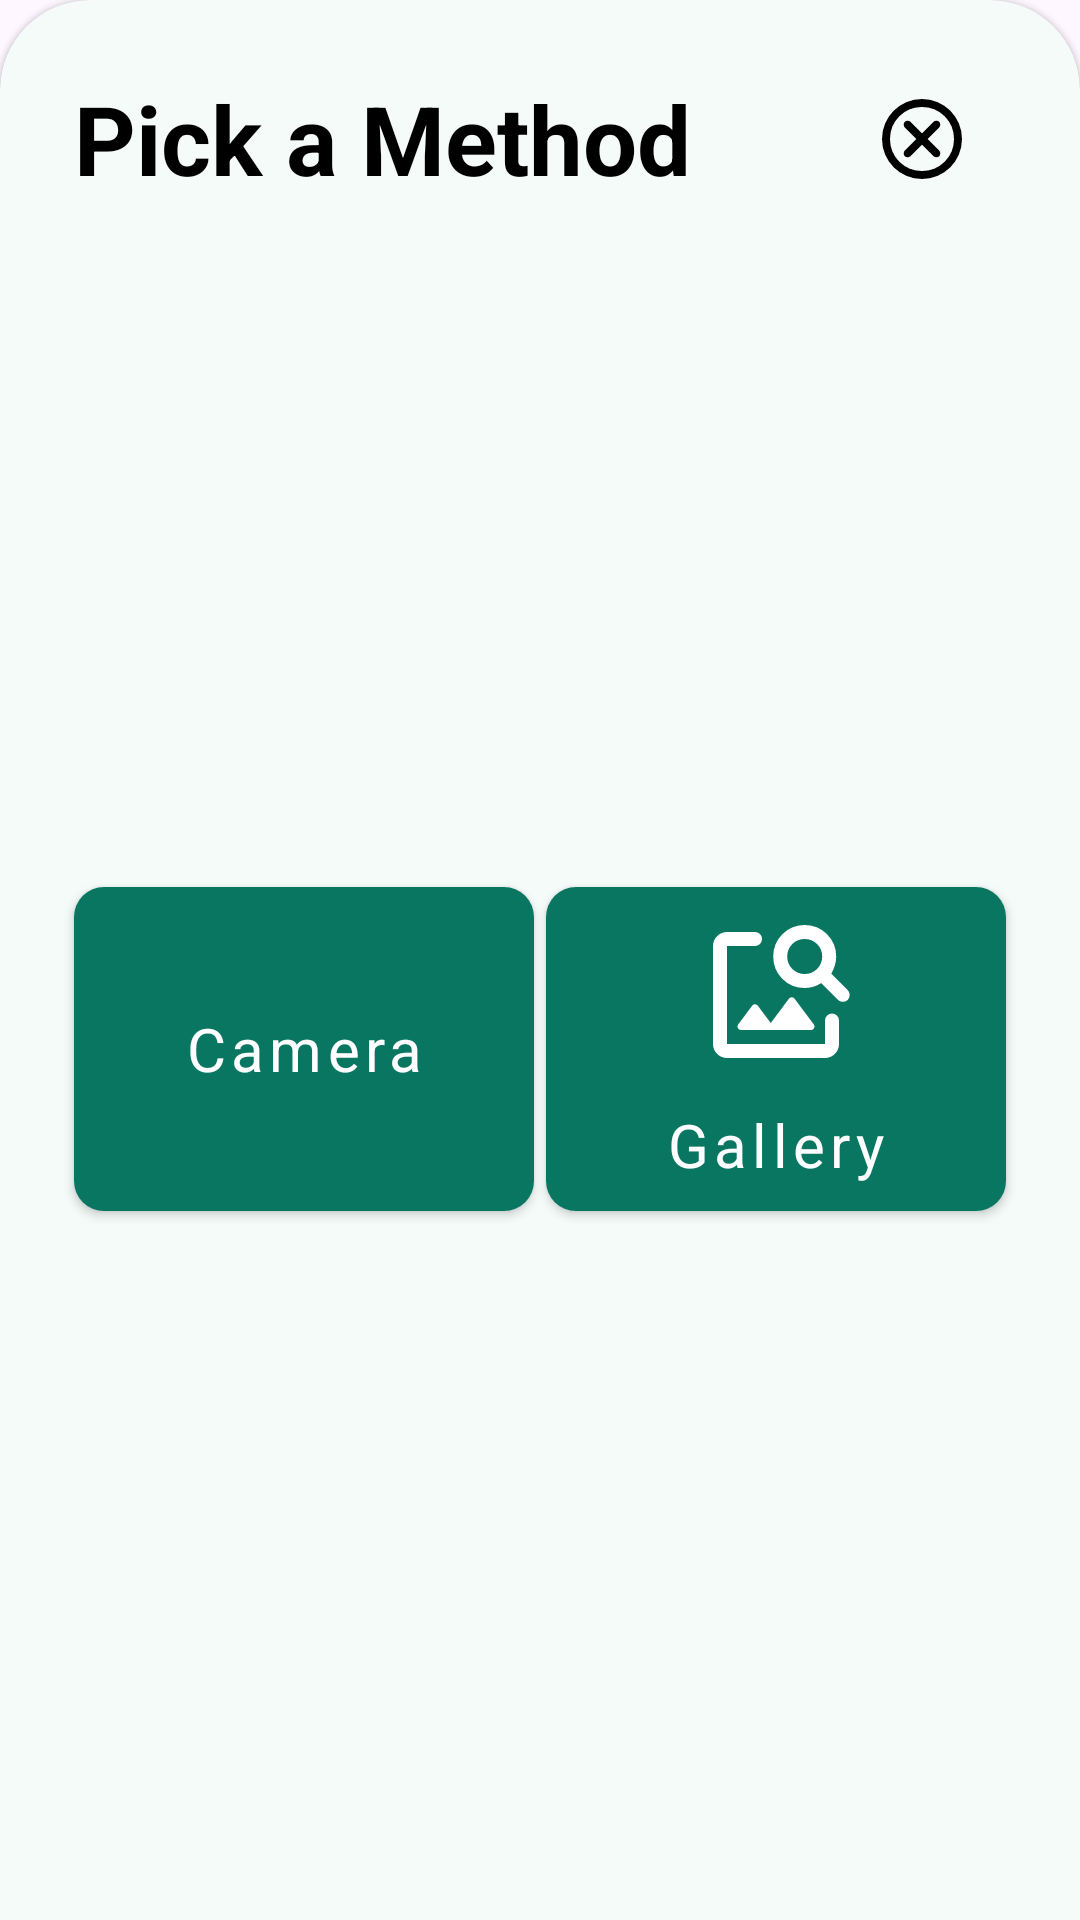

Named icons in this screenshot (1080 × 1920) and their bounding boxes, box(x1, y1, x2, y2):
Cancel button: box(882, 99, 962, 179)
